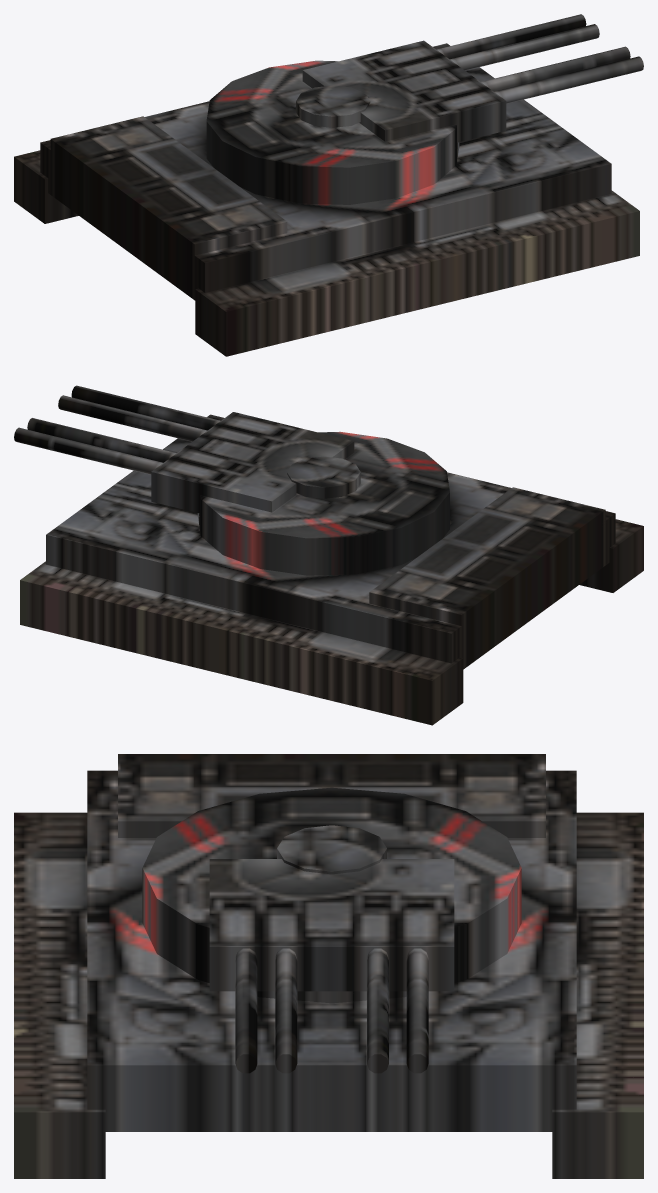
Rendered from fh_ground_zsu_code.glb.
3 views of the same model, one above another, from view 1: azimuth 30°, elevation 25°; view 2: azimuth 150°, elevation 25°; view 3: azimuth 270°, elevation 25° (orthographic). The views are drawn at different scales.
Parts seen in each view (by area): view 1: hull, track_r, turret_body, deck_rear, gun_mount, radar, track_l, tube4, tube2, tube, tube3; view 2: hull, track_l, turret_body, deck_rear, gun_mount, radar, track_r, tube, tube3, tube4, tube2; view 3: hull, turret_body, track_r, gun_mount, track_l, deck_rear, radar, tube3, tube4, tube, tube2.
Boxes of the visible parts, <box> form: hull: <box>40,43,611,300</box>; track_r: <box>195,190,639,356</box>; turret_body: <box>206,60,459,204</box>; deck_rear: <box>50,116,287,255</box>; gun_mount: <box>302,40,506,142</box>; radar: <box>296,85,370,127</box>; track_l: <box>14,150,78,223</box>; tube4: <box>494,56,643,103</box>; tube2: <box>450,24,599,70</box>; tube: <box>436,14,586,59</box>; tube3: <box>481,46,630,91</box>; hull: <box>46,414,615,669</box>; track_l: <box>20,561,463,725</box>; turret_body: <box>197,431,449,575</box>; deck_rear: <box>369,487,605,625</box>; gun_mount: <box>151,412,354,513</box>; radar: <box>287,456,360,498</box>; track_r: <box>579,519,643,592</box>; tube: <box>14,427,162,474</box>; tube3: <box>58,395,207,441</box>; tube4: <box>71,385,220,430</box>; tube2: <box>27,418,176,462</box>; hull: <box>87,770,576,1131</box>; turret_body: <box>142,787,521,1003</box>; track_r: <box>14,812,105,1178</box>; gun_mount: <box>209,859,454,991</box>; track_l: <box>552,812,643,1178</box>; deck_rear: <box>118,754,545,837</box>; radar: <box>277,825,386,874</box>; tube3: <box>275,948,297,1073</box>; tube4: <box>235,948,257,1073</box>; tube: <box>406,948,428,1073</box>; tube2: <box>367,948,388,1073</box>.
Bounding box in the file's own units: 1 × 0.2428 × 0.7464.
Materials: 1 (1 with a texture image).
